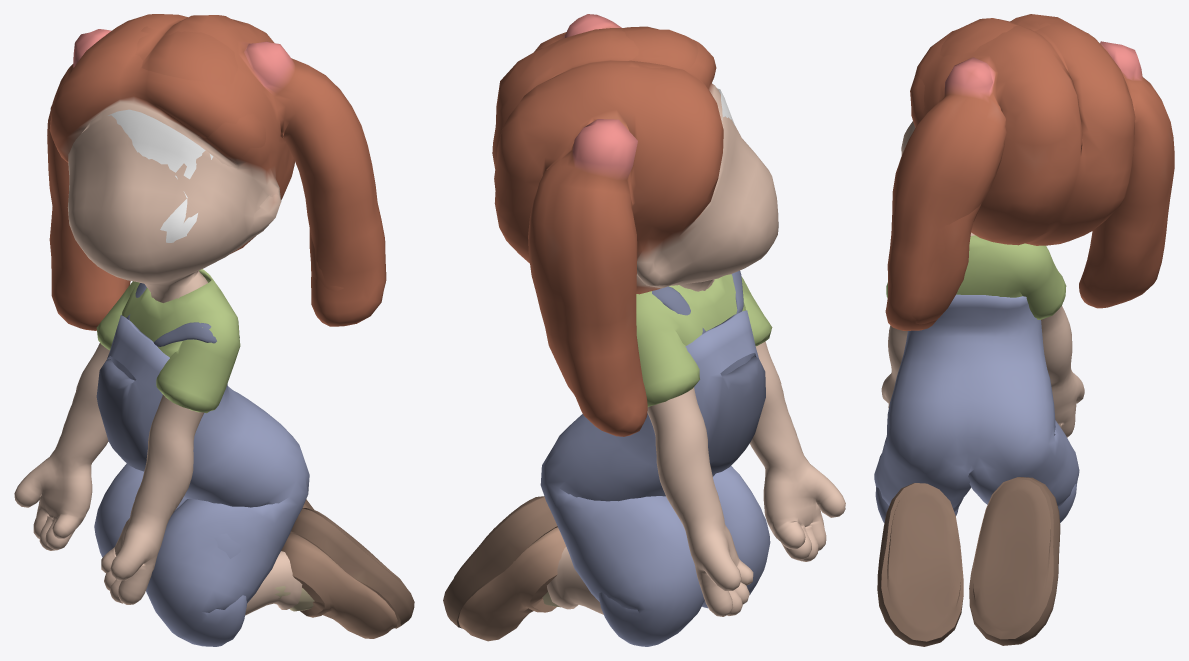
3 renders of one model, left to right at view 1: azimuth 30°, elevation 25°; view 2: azimuth 150°, elevation 25°; view 3: azimuth 270°, elevation 25°, orthographic. The views are drawn at different scales.
Parts seen in each view (by area): view 1: Arms.092; view 2: Arms.092; view 3: Arms.092.
Part boxes in pixels (bbox=[...]): Arms.092: bbox=[14, 14, 414, 646]; Arms.092: bbox=[443, 14, 845, 646]; Arms.092: bbox=[874, 14, 1174, 646].
Bounding box in the file's own units: 67.66 × 126 × 61.92.
